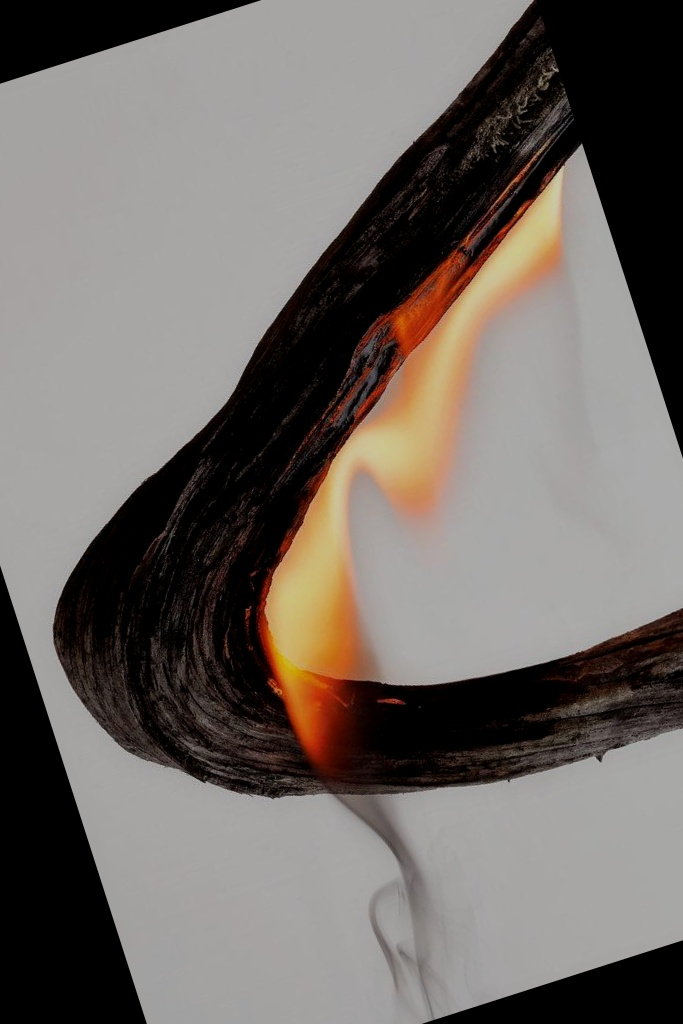fire: (183, 302, 683, 863)
